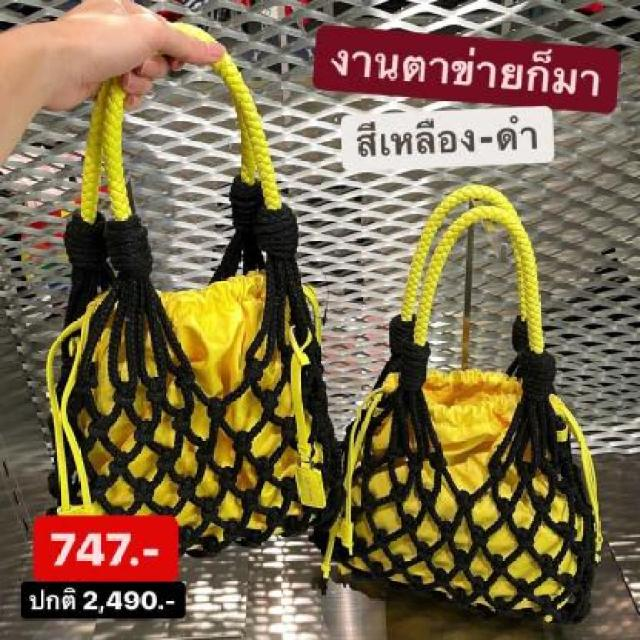Bag: (0, 0, 371, 560), (323, 181, 638, 640)
